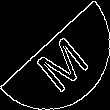M_NW: (23, 21, 87, 89)
